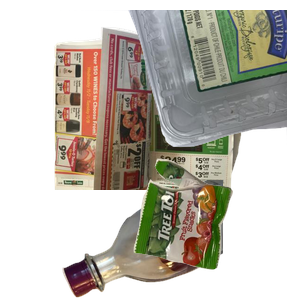glass: (60, 180, 300, 300)
paper: (51, 24, 291, 204)
plastic: (60, 10, 300, 149)
trash: (131, 156, 300, 300)
